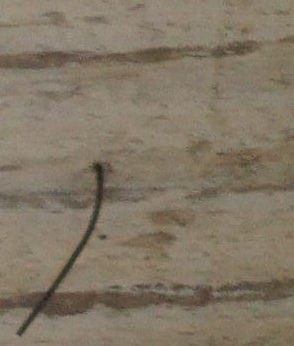Exposed reinforcement: (14, 163, 105, 338)
